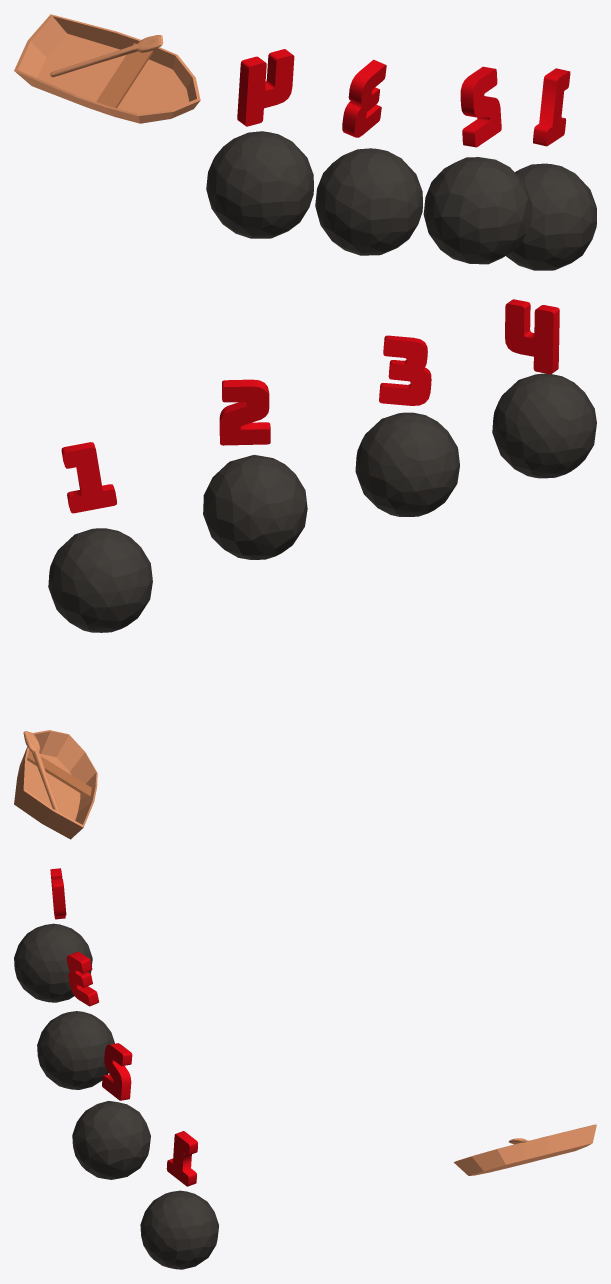
Rendered from RoadmapSection.glb.
The picture shows the model from 3 angles, top to bottom: view 1: azimuth 30°, elevation 25°; view 2: azimuth 150°, elevation 25°; view 3: azimuth 270°, elevation 25°; orthographic projection. The views are drawn at different scales.
Parts seen in each view (by area): view 1: Boat, Roadmap4, Roadmap2, Roadmap3, Roadmap1; view 2: Roadmap4, Roadmap2, Roadmap3, Roadmap1, Boat; view 3: Roadmap2, Roadmap1, Roadmap3, Roadmap4, Boat.
Boxes of the visible parts, left/top/right/bottom form: Boat: left=14, top=14, right=200, bottom=123; Roadmap4: left=206, top=49, right=313, bottom=238; Roadmap2: left=423, top=66, right=532, bottom=264; Roadmap3: left=315, top=59, right=422, bottom=255; Roadmap1: left=506, top=68, right=596, bottom=270; Roadmap4: left=492, top=299, right=596, bottom=478; Roadmap2: left=203, top=379, right=307, bottom=559; Roadmap3: left=355, top=335, right=459, bottom=516; Roadmap1: left=48, top=442, right=152, bottom=632; Boat: left=14, top=730, right=97, bottom=839; Roadmap2: left=72, top=1043, right=150, bottom=1179; Roadmap1: left=140, top=1131, right=218, bottom=1269; Roadmap3: left=37, top=951, right=114, bottom=1089; Roadmap4: left=14, top=868, right=92, bottom=1002; Boat: left=454, top=1124, right=596, bottom=1175.
Size of the model in its own units: 18.02 by 13.34 by 26.93.
